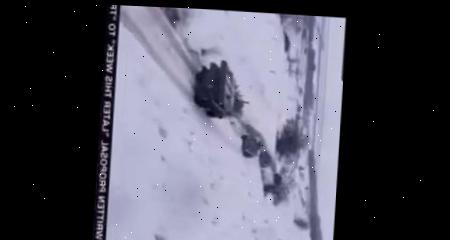truck: (191, 57, 247, 119), (238, 129, 263, 157), (258, 147, 275, 169)
